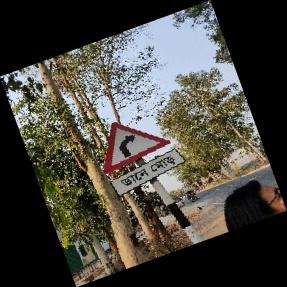Right-turn: (104, 123, 187, 197)
